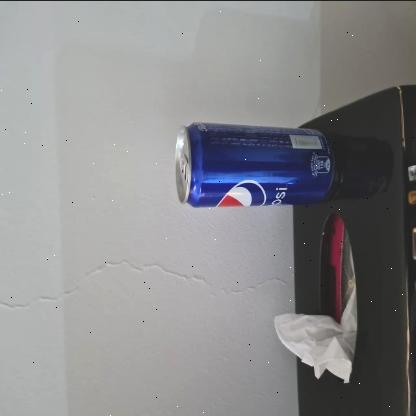Can: (175, 121, 398, 207)
